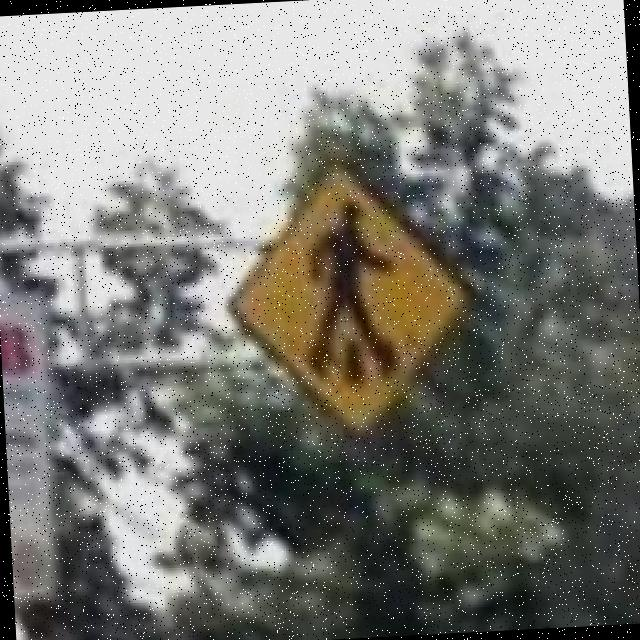Przejscie dla pieszych: (228, 164, 472, 432)
